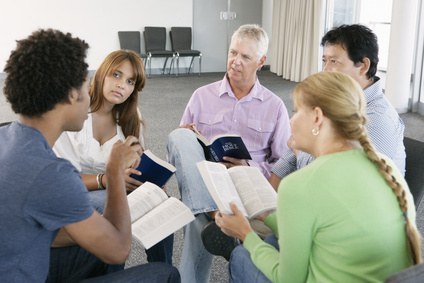Person: (1, 20, 99, 283), (272, 83, 391, 266), (197, 26, 274, 201), (105, 41, 139, 154)
